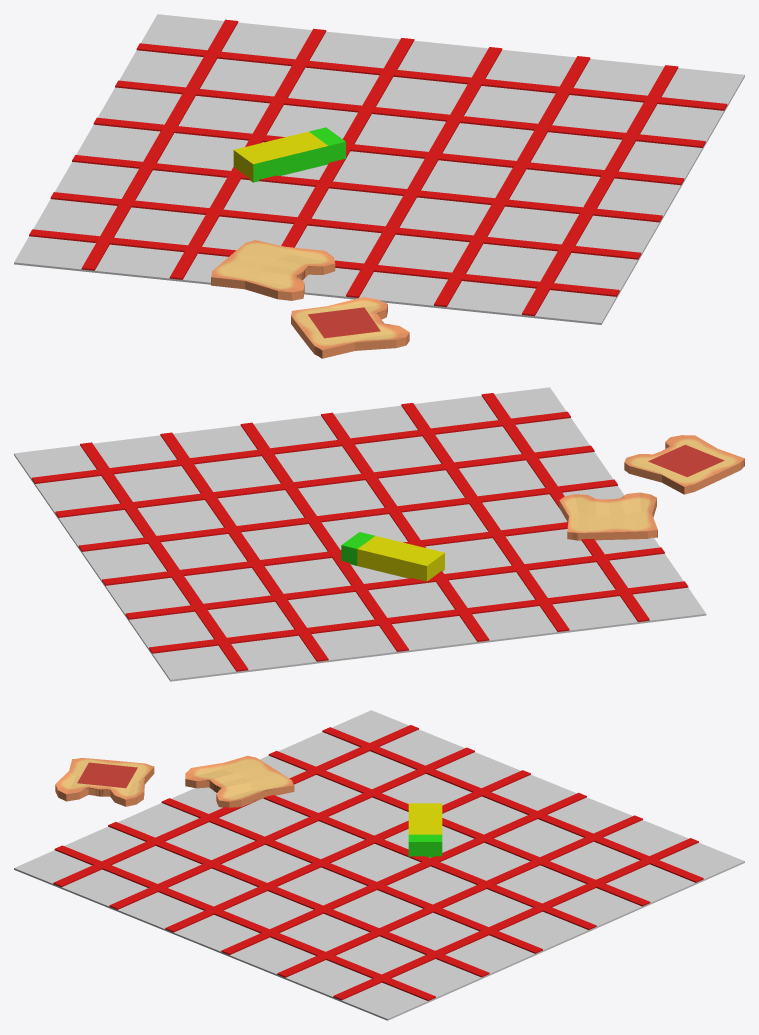
The model's file is sheet and bread.fbx.
3 views of the same model, one above another, from view 1: azimuth 30°, elevation 25°; view 2: azimuth 150°, elevation 25°; view 3: azimuth 270°, elevation 25° (orthographic). The views are drawn at different scales.
Parts seen in each view (by area): view 1: sheet and bread; view 2: sheet and bread; view 3: sheet and bread.
Boxes of the visible parts, left/top/right/bottom form: sheet and bread: left=14, top=14, right=744, bottom=358; sheet and bread: left=14, top=387, right=744, bottom=681; sheet and bread: left=14, top=710, right=744, bottom=1020.
Size of the model in its own units: 231 by 6.07 by 231.
6 materials, 1 textured.
